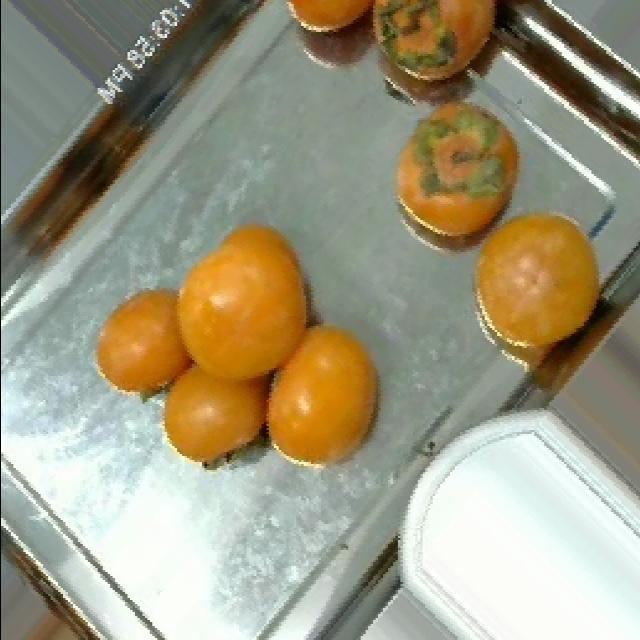Fruit: (447, 188, 635, 382), (236, 296, 404, 496), (370, 80, 546, 270), (156, 204, 338, 382), (134, 360, 300, 490), (69, 274, 221, 414), (265, 0, 407, 90)
